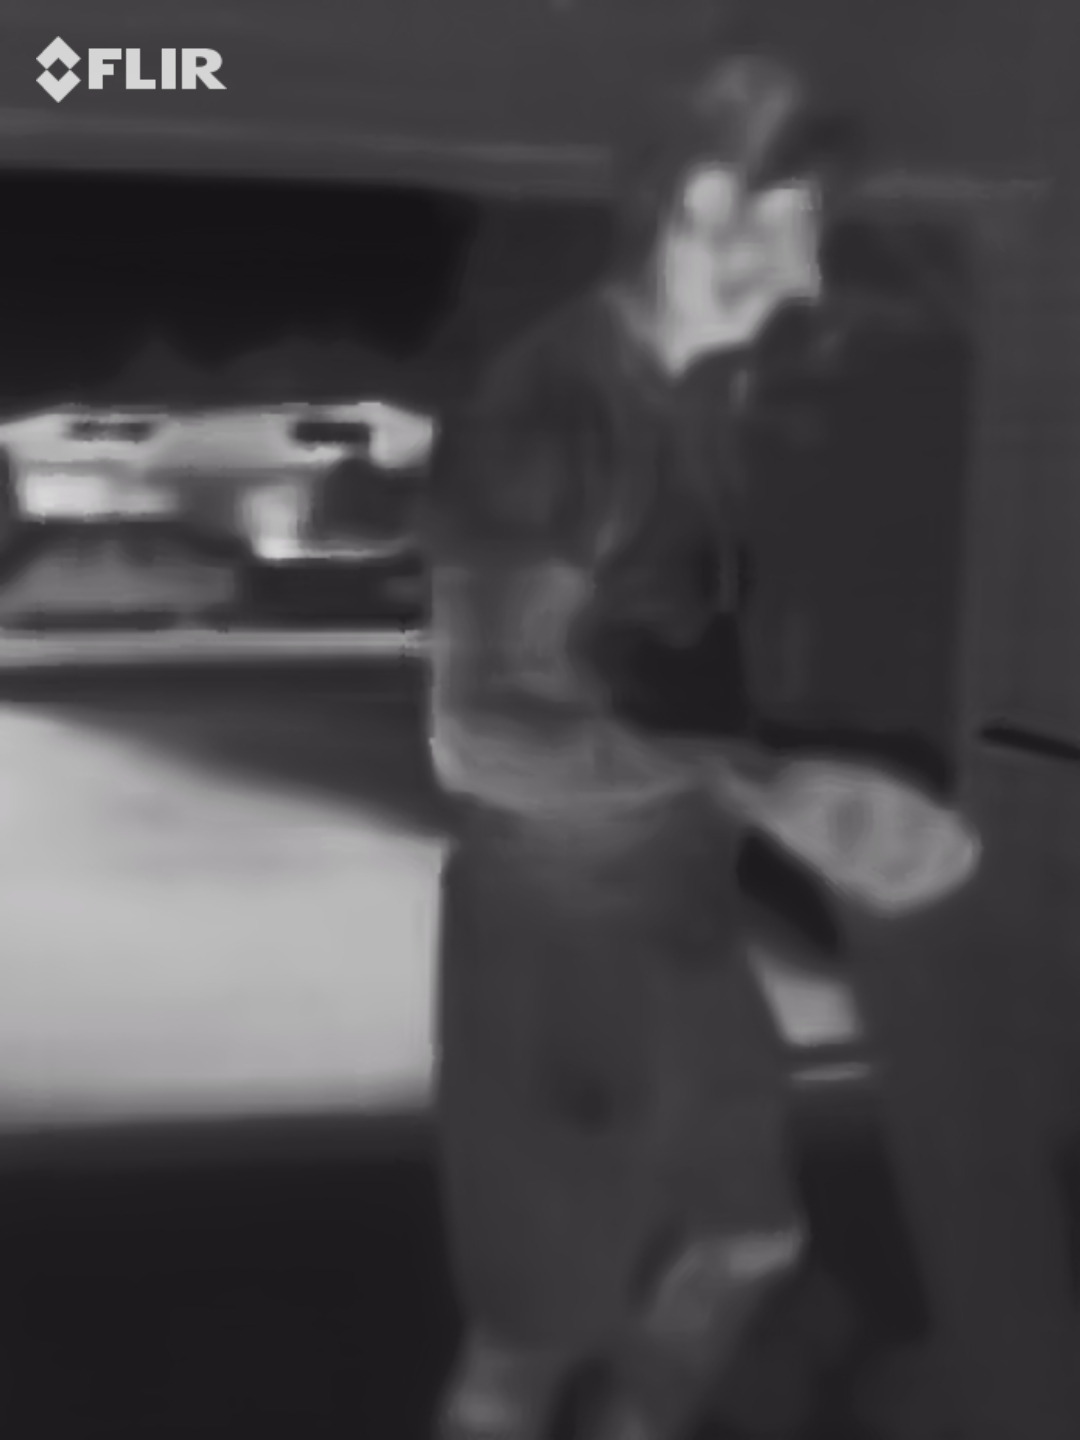head: (616, 42, 838, 375)
